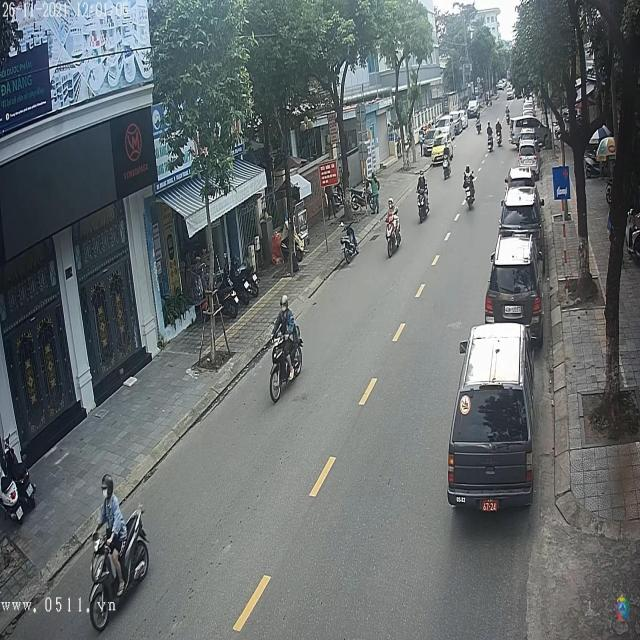car: (449, 326, 534, 511), (486, 233, 544, 336), (501, 185, 541, 227)
motorcycle: (85, 504, 150, 632), (267, 324, 304, 404), (386, 215, 403, 258), (416, 186, 431, 225), (443, 153, 452, 181)
